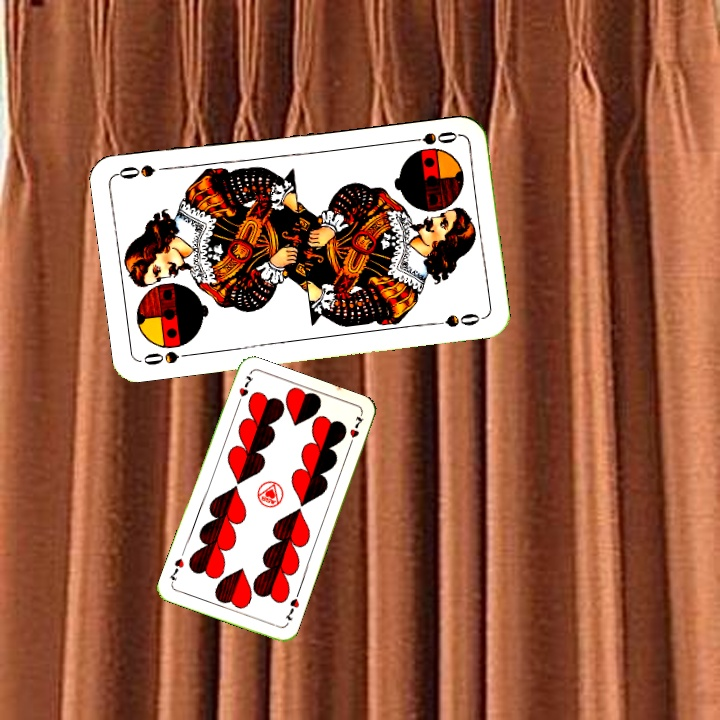H7: (233, 371, 256, 409), (281, 594, 302, 623)
SO: (402, 127, 461, 148), (137, 347, 196, 368)
